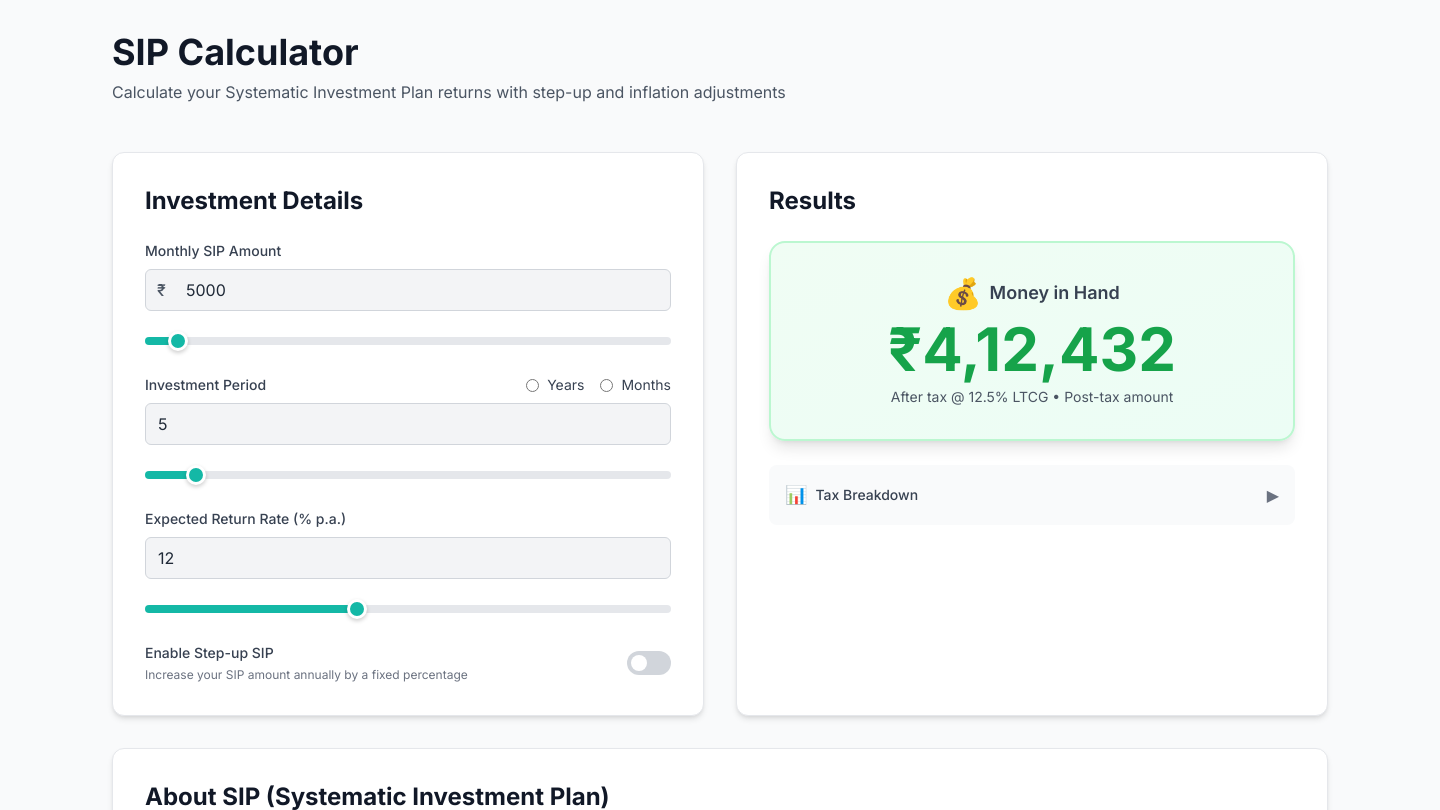
Test case: SIP Calculator › SIP-21: Step-Up SIP › should enable step-up percentage when step-up is enabled
The image size is (1440, 810).
Click the switch at (649, 663), box [627, 651, 671, 675]
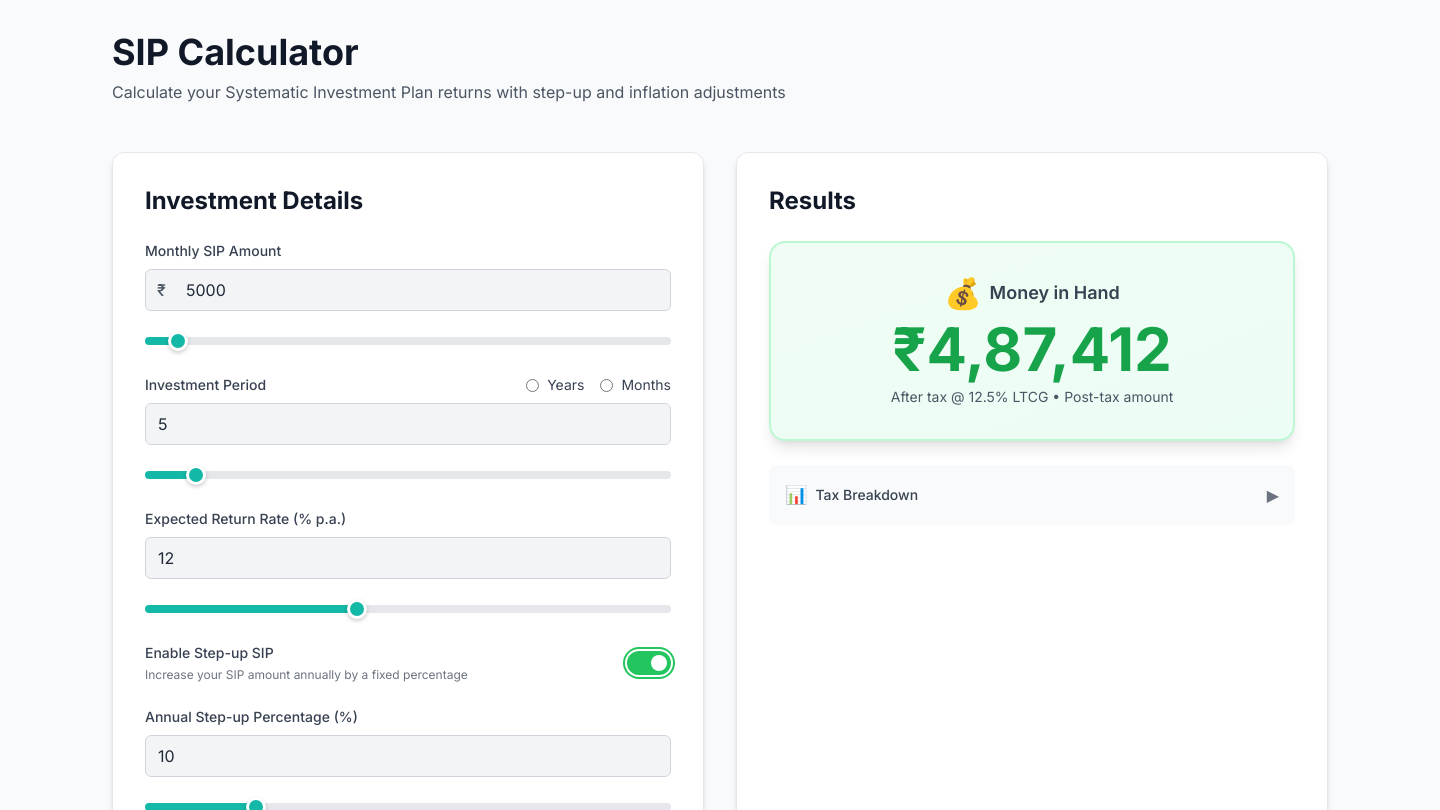
Now the number field with placeholder "10" below "Annual Step-up Percentage (%)" is shown, box [145, 735, 671, 777]
